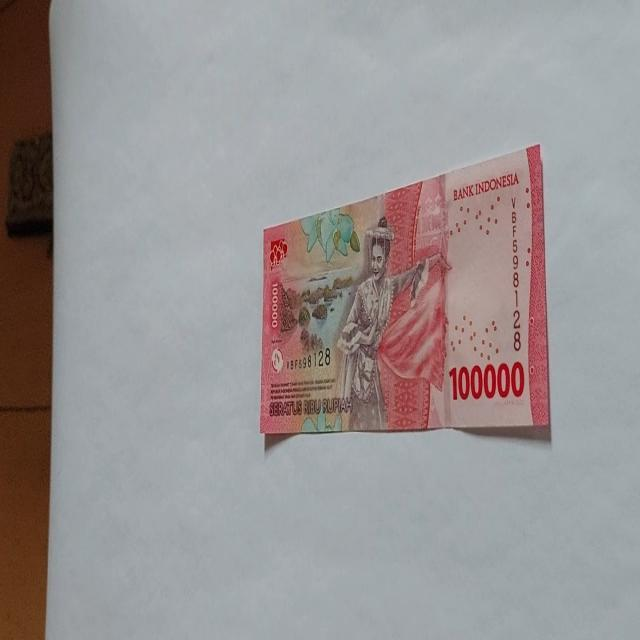seratus ribu rupiah: (258, 145, 552, 454), (334, 215, 430, 431)
